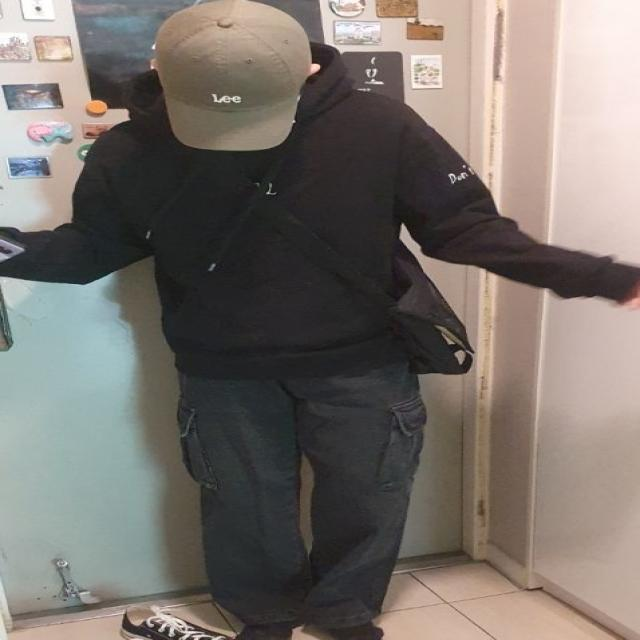denimpants: (175, 358, 425, 628)
hoodies: (0, 43, 640, 373)
